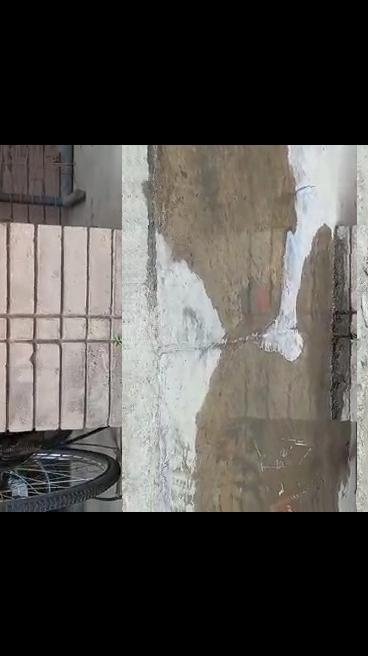water accumulation: (143, 144, 355, 512)
